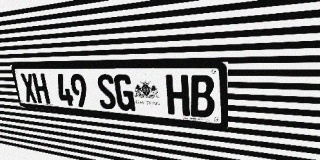4: (55, 74, 74, 106)
9: (69, 74, 89, 107)
B: (189, 75, 215, 118)
G: (113, 74, 136, 111)
H: (165, 75, 190, 116), (32, 73, 50, 104)
S: (96, 74, 117, 110)
X: (20, 73, 38, 103)
